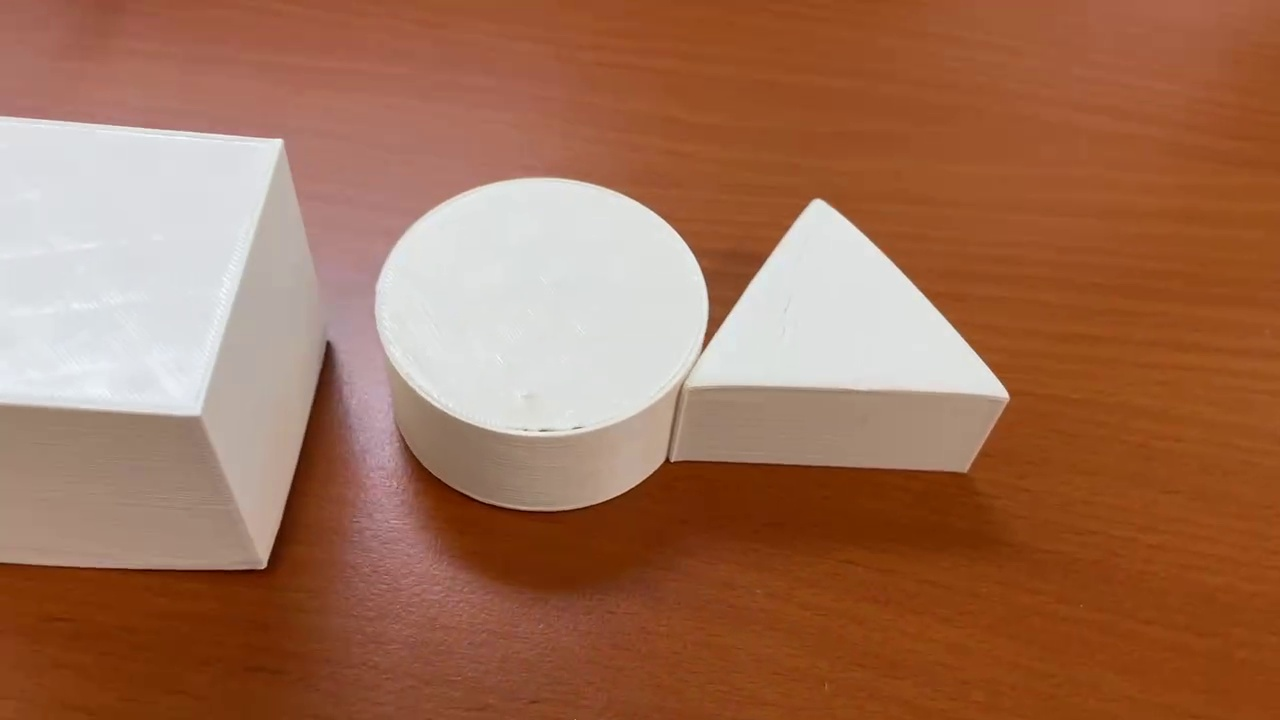Cube: (1, 109, 325, 574)
Cylinder_short: (375, 175, 707, 512)
Triangle_short: (668, 197, 1012, 478)
